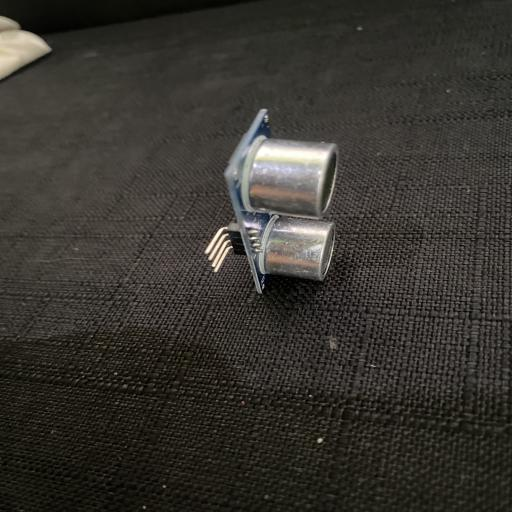Ultrasonic Sensor: (204, 108, 340, 294)
